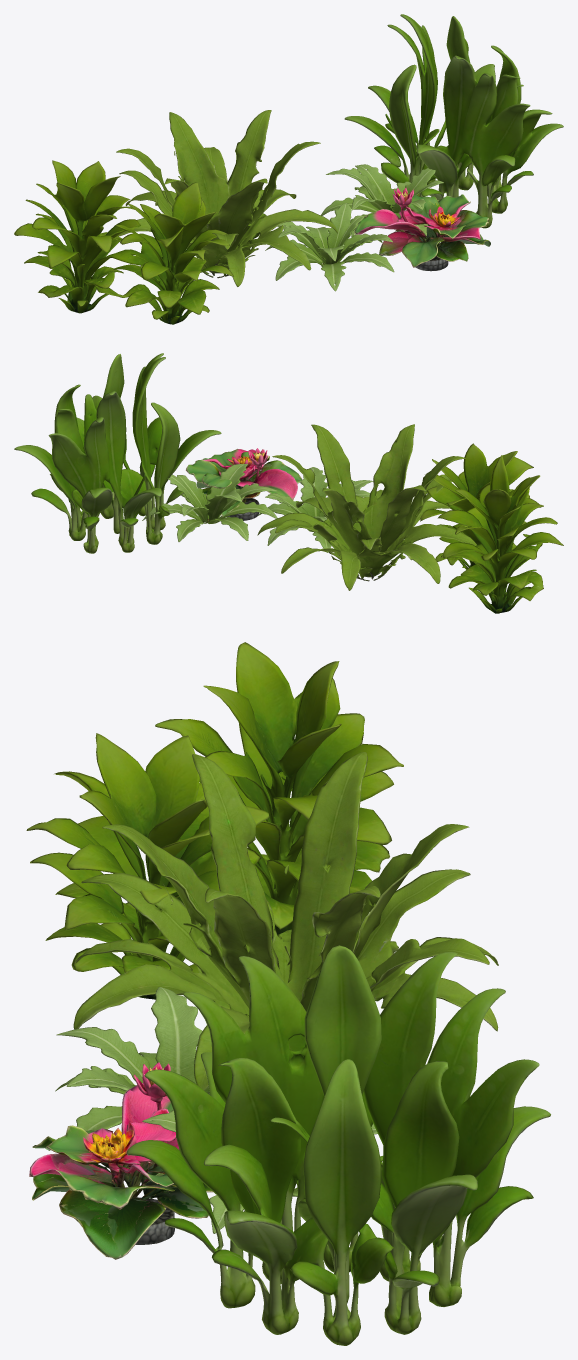
File: aquariumplants_java_fern_vallisneria_etc.glb
The picture shows the model from 3 angles, top to bottom: view 1: azimuth 30°, elevation 25°; view 2: azimuth 150°, elevation 25°; view 3: azimuth 270°, elevation 25°; orthographic projection. The views are drawn at different scales.
Parts seen in each view (by area): view 1: Vallisneria, Universal, Java Vern Narrow, Red Tiger Lotus, Staurogyne Repens, Staurogyne Repens2; view 2: Vallisneria, Java Vern Narrow, Universal, Staurogyne Repens2, Red Tiger Lotus, Staurogyne Repens; view 3: Vallisneria, Universal, Java Vern Narrow, Red Tiger Lotus, Staurogyne Repens, Staurogyne Repens2.
Boxes of the visible parts, bbox=[...] form: Vallisneria: bbox=[344, 14, 563, 228]; Universal: bbox=[14, 160, 233, 324]; Java Vern Narrow: bbox=[116, 110, 337, 286]; Red Tiger Lotus: bbox=[354, 187, 490, 271]; Staurogyne Repens: bbox=[265, 203, 394, 291]; Staurogyne Repens2: bbox=[320, 164, 443, 239]; Vallisneria: bbox=[14, 353, 221, 553]; Java Vern Narrow: bbox=[257, 424, 476, 590]; Universal: bbox=[419, 443, 563, 613]; Staurogyne Repens2: bbox=[142, 464, 277, 541]; Red Tiger Lotus: bbox=[185, 448, 302, 520]; Staurogyne Repens: bbox=[258, 467, 373, 552]; Vallisneria: bbox=[126, 945, 550, 1345]; Universal: bbox=[26, 642, 403, 999]; Java Vern Narrow: bbox=[73, 752, 498, 1090]; Red Tiger Lotus: bbox=[29, 1062, 213, 1259]; Staurogyne Repens: bbox=[55, 987, 209, 1130]; Staurogyne Repens2: bbox=[142, 1110, 377, 1233].
Bounding box in the file's own units: 0.00146 × 0.000509 × 0.000672.
5 materials, 5 textured.
